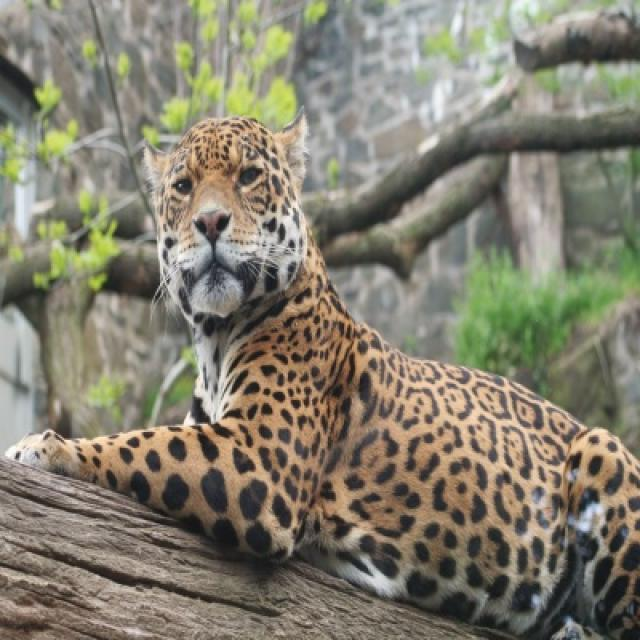Jaguar: (11, 112, 638, 638)
